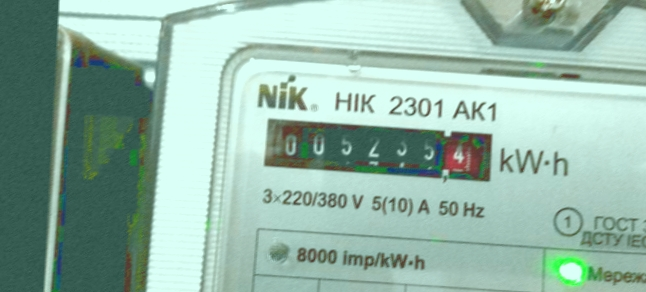0: (282, 131, 299, 158), (311, 130, 326, 156)
2: (366, 132, 381, 158)
3: (394, 132, 409, 157)
4: (451, 139, 467, 166)
5: (421, 134, 437, 162), (338, 131, 354, 158)
screen: (254, 108, 505, 190)
